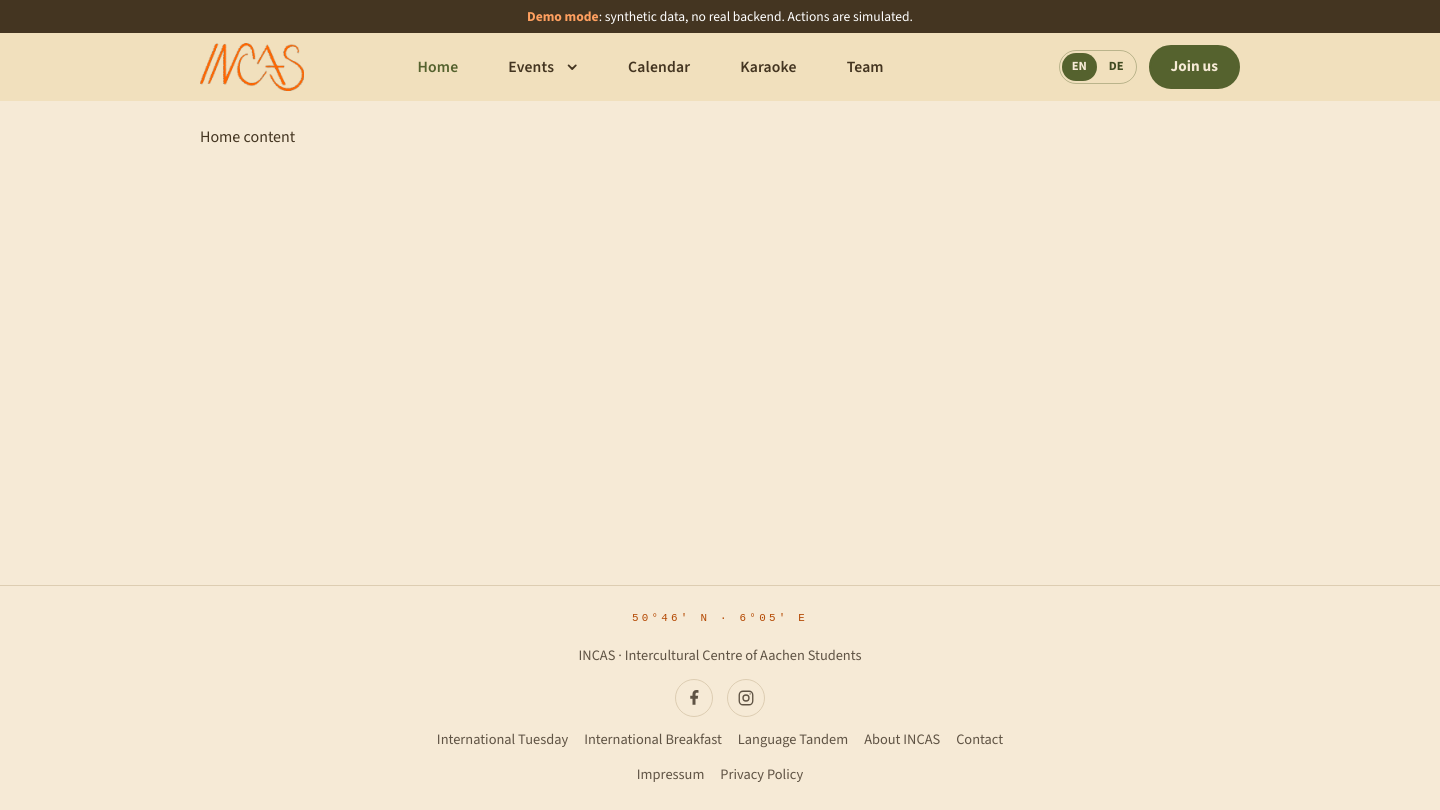
Scenario: PublicLayout Events navigation › closes the open group when clicking outside the nav
This screenshot has width=1440, height=810.
Click the button named "Open submenu: Events".
click(575, 67)  # box [560,49,590,85]
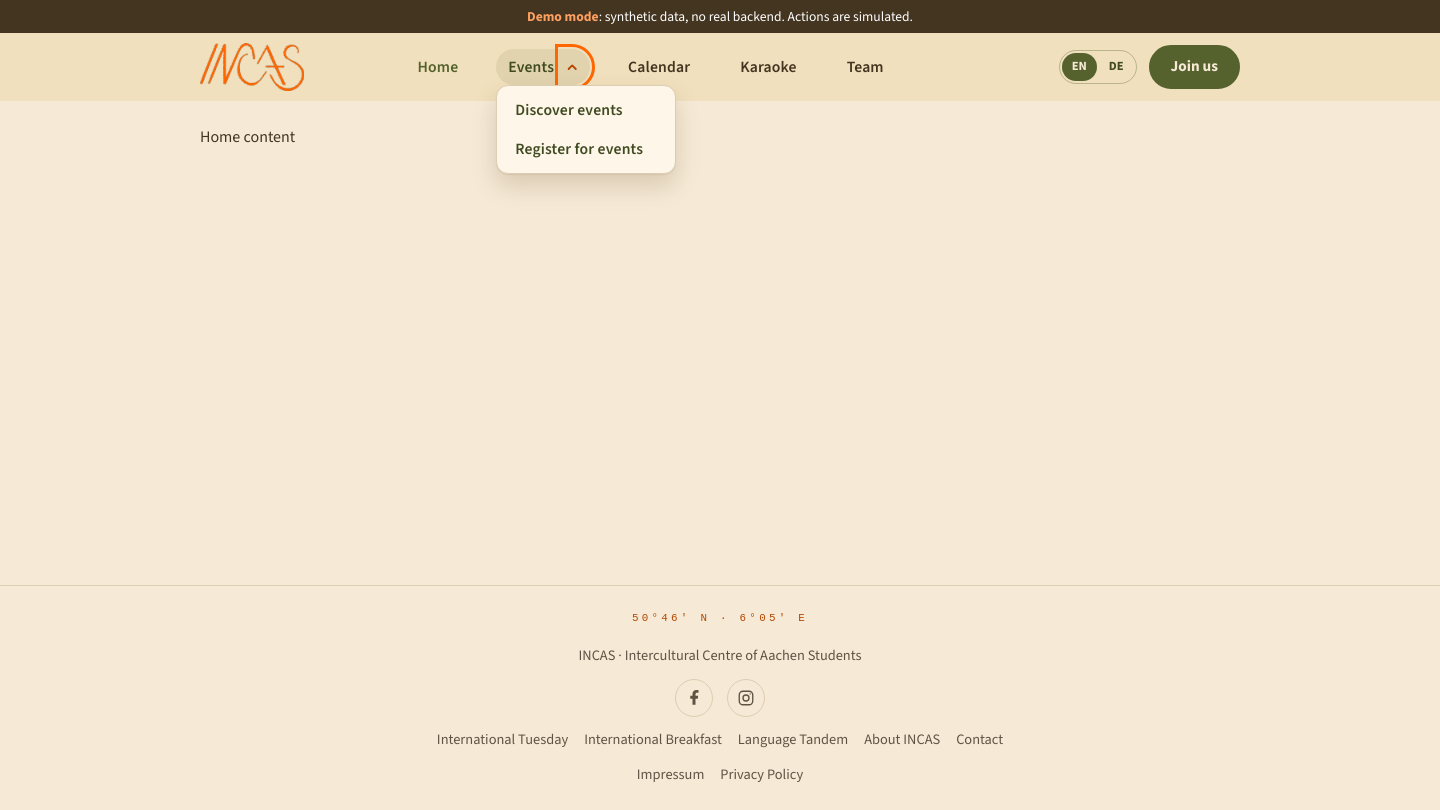
expect the button named "Open submenu: Events" is expanded: met, box [560,49,590,85]
Click the text "Home content".
click(248, 137)  # box [200,126,295,148]
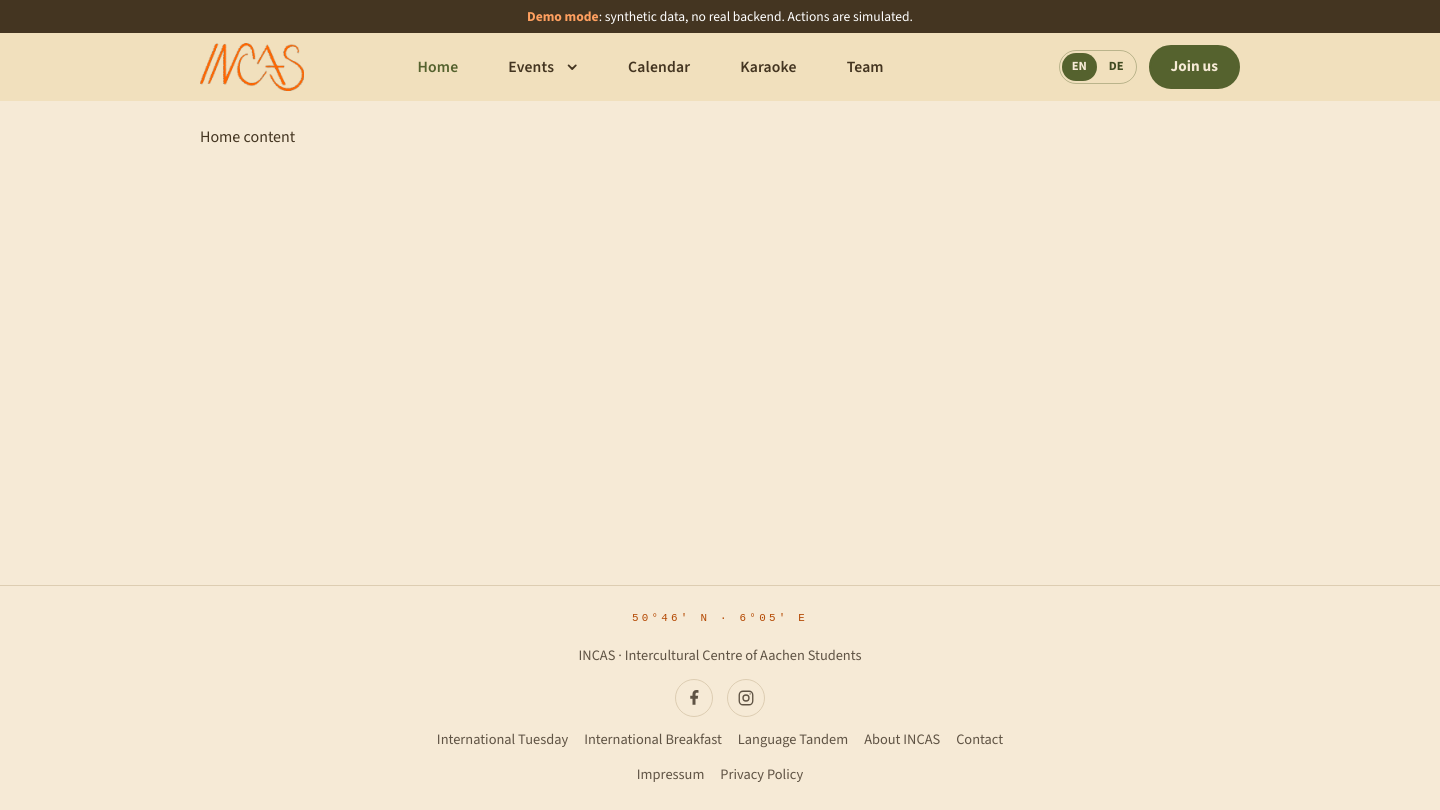
expect the button named "Open submenu: Events" is collapsed: met, box [560,49,590,85]
